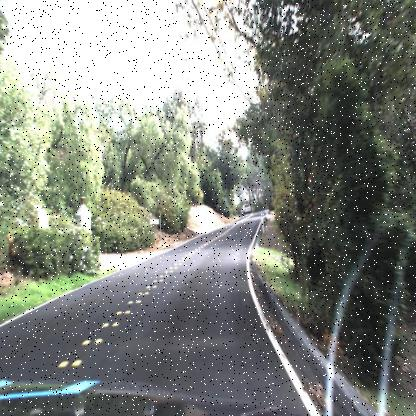car: (238, 199, 257, 219), (237, 197, 252, 217)
